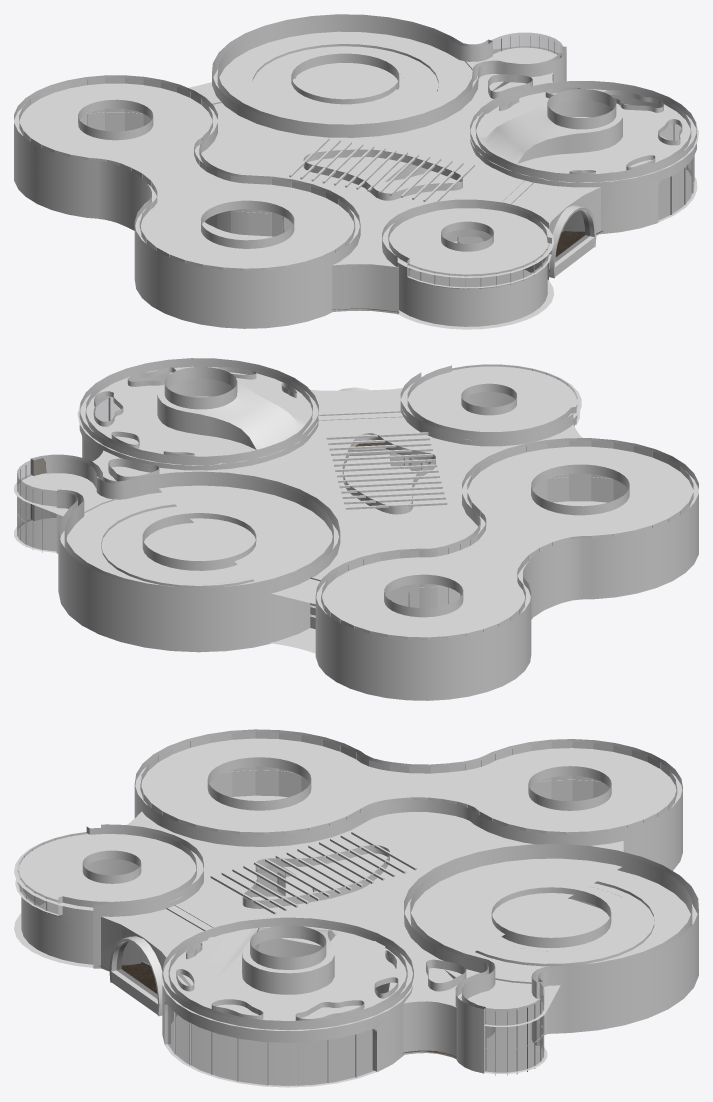
Rendered from Structures.fbx.
The picture shows the model from 3 angles, top to bottom: view 1: azimuth 30°, elevation 25°; view 2: azimuth 150°, elevation 25°; view 3: azimuth 270°, elevation 25°; orthographic projection. The views are drawn at different scales.
Parts seen in each view (by area): view 1: MainHall_Ceiling, Ceiling_AgencyExhibition, Cylinder.004, Ceiling, Ceiling.002, Ceiling.001, Wall.006, Cylinder.001, Wall, Wall.005, Wall.004, MainHall_Wall (+13 smaller); view 2: MainHall_Ceiling, Ceiling_AgencyExhibition, Cylinder.004, Wall.004, Ceiling, Ceiling.002, Ceiling.001, Cylinder.001, Wall.005, MainHall_CeilingPalette, Wall, Wall.007 (+8 smaller); view 3: MainHall_Ceiling, Ceiling_AgencyExhibition, Ceiling.002, Wall.004, Ceiling, Cylinder.004, Cylinder.001, Ceiling.001, Floor, WallGlass.002, Wall, Wall.005 (+17 smaller).
Boxes of the visible parts, x1,y1,x2,y2 form: MainHall_Ceiling: (189,72,600,267); Ceiling_AgencyExhibition: (14,83,359,268); Cylinder.004: (14,75,360,328); Ceiling: (469,87,698,182); Ceiling.002: (213,31,558,104); Ceiling.001: (382,208,554,277); Wall.006: (388,202,551,326); Cylinder.001: (19,77,355,270); Wall: (470,81,696,234); Wall.005: (217,16,561,126); Wall.004: (212,14,566,181); MainHall_Wall: (332,73,600,313); MainHall_Ceiling: (92,388,582,604); Ceiling_AgencyExhibition: (316,446,698,637); Cylinder.004: (315,438,698,700); Wall.004: (30,454,340,652); Ceiling: (77,366,319,465); Ceiling.002: (14,473,256,586); Ceiling.001: (400,364,581,440); Cylinder.001: (321,440,693,639); Wall.005: (33,457,333,590); MainHall_CeilingPalette: (326,432,447,509); Wall: (79,358,318,470); Wall.007: (85,360,312,459); MainHall_Ceiling: (101,811,623,1007); Ceiling_AgencyExhibition: (135,738,682,832); Ceiling.002: (460,870,697,1026); Wall.004: (404,844,698,1073); Ceiling: (161,925,414,1030); Cylinder.004: (134,729,682,897); Cylinder.001: (140,732,677,834); Ceiling.001: (14,832,203,910); Floor: (164,1007,376,1087); WallGlass.002: (168,1005,374,1085); Wall: (162,917,413,1072); Wall.005: (410,846,692,1045).
Bounding box in the file's own units: 9966 × 1562 × 9777.
